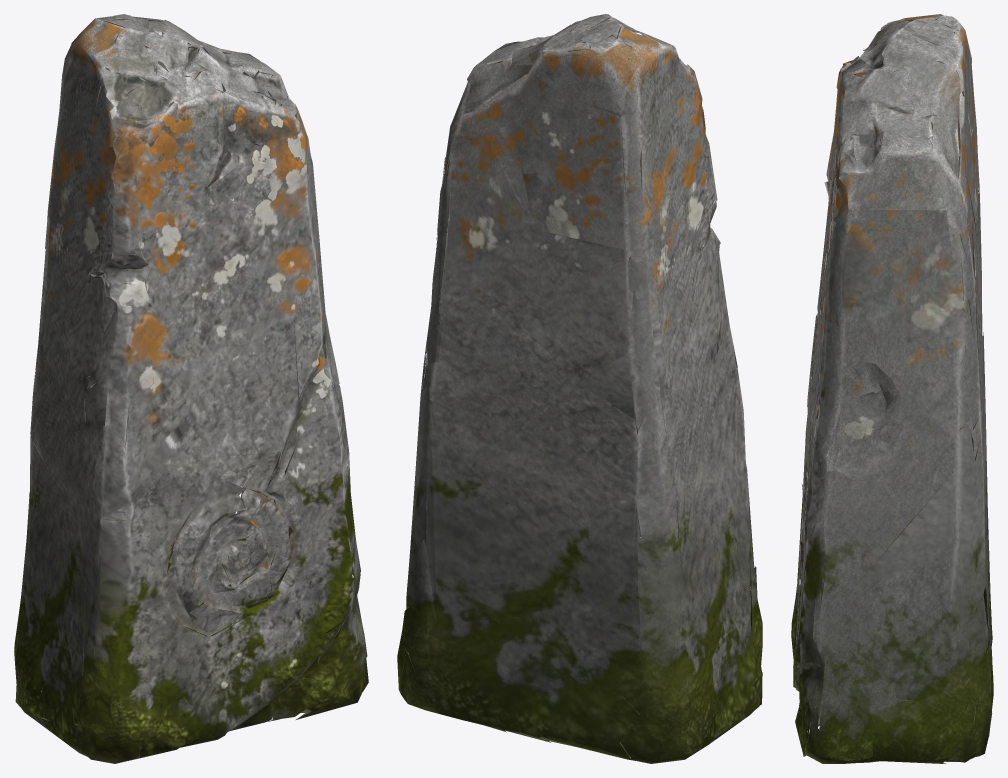
File: menhir.glb
3 renders of one model, left to right at view 1: azimuth 30°, elevation 25°; view 2: azimuth 150°, elevation 25°; view 3: azimuth 270°, elevation 25°, orthographic. The views are drawn at different scales.
Parts seen in each view (by area): view 1: Mesh_0; view 2: Mesh_0; view 3: Mesh_0.
Part boxes in pixels (x1,y1,x2,y2): Mesh_0: [14, 14, 368, 763]; Mesh_0: [397, 14, 762, 763]; Mesh_0: [791, 14, 993, 763].
Size of the model in its own units: 1.96 by 4.4 by 1.23.
1 material, 1 textured.
